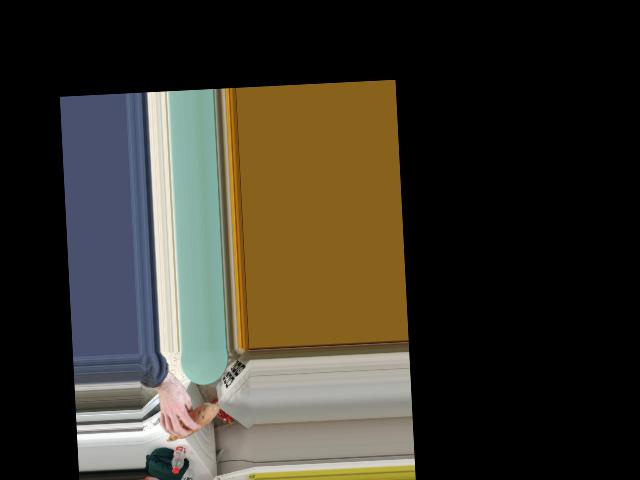sweet_potato: (162, 401, 218, 439)
